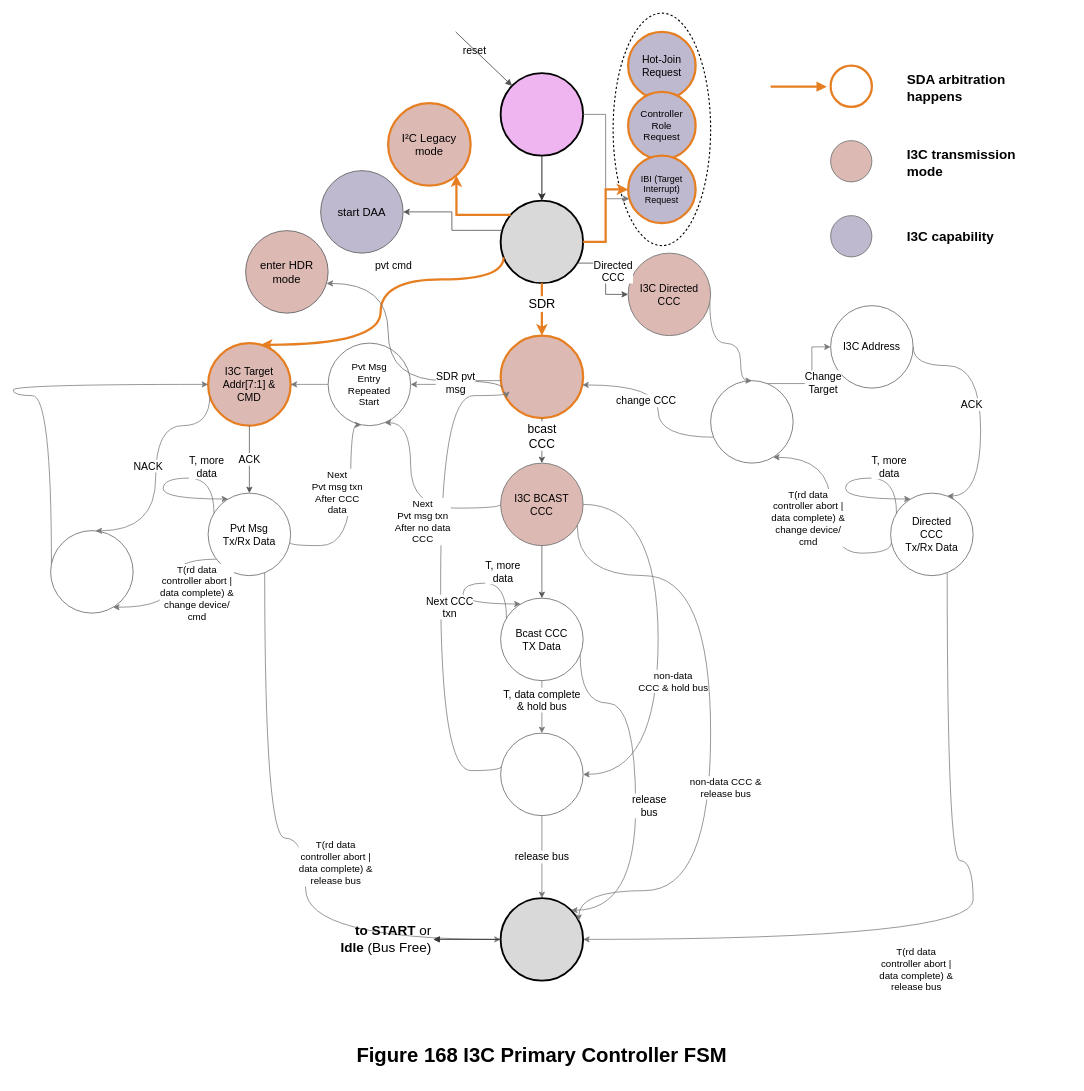
Some shapes in this 1084 by 1091 pixel diagram are drawn without their labels. The shapes that lost their labels are listed below. From the top down, each one's centre as x and y in pixels, then its label:
At (541,114): "Idle (Bus Free)".
At (541,241): "START".
At (541,376): "I3C BCAST 7E/W".
At (751,421): "Directed CCC Repeated Start".
At (91,571): "Pvt Msg Repeated Start".
At (541,774): "Bcast Repeated Start".
At (541,939): "STOP".
